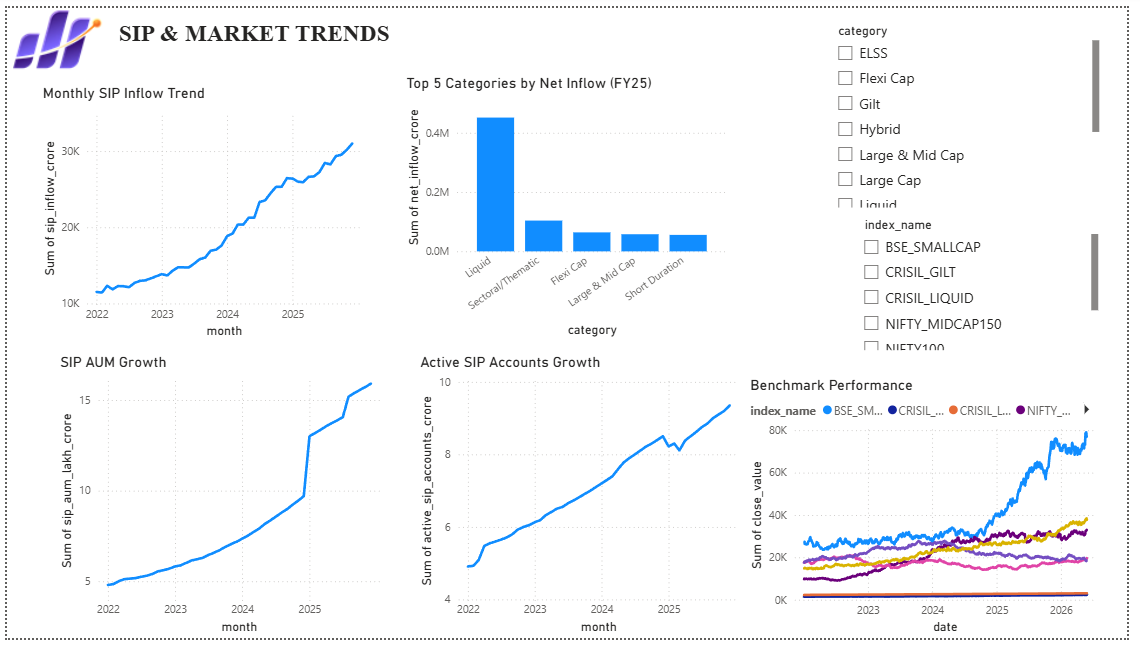

The page's visual inventory and layout, read from the dashboard file:
{"tool":"powerbi","page":{"name":"SIP & Market Trends","canvas":[1280,720],"ordinal":3},"visuals":[{"type":"lineChart","title":"Monthly SIP Inflow Trend","fields":{"Y":["Sum(monthly_sip_inflows_clean.sip_inflow_crore)"],"Category":["monthly_sip_inflows_clean.month"]},"box":[35.1,86.5,377,294.6],"z":0},{"type":"lineChart","title":"SIP AUM Growth","fields":{"Category":["monthly_sip_inflows_clean.month"],"Y":["Sum(monthly_sip_inflows_clean.sip_aum_lakh_crore)"]},"box":[55.4,394.6,378.4,325.7],"z":1000},{"type":"clusteredColumnChart","title":"Top 5 Categories by Net Inflow (FY25)","fields":{"Category":["category_inflows_clean.category"],"Y":["Sum(category_inflows_clean.net_inflow_crore)"]},"box":[451.4,75.7,377,305.4],"z":2000},{"type":"lineChart","title":"Active SIP Accounts Growth","fields":{"Category":["monthly_sip_inflows_clean.month"],"Y":["Sum(monthly_sip_inflows_clean.active_sip_accounts_crore)"]},"box":[467.6,394.6,377,325.7],"z":3000},{"type":"slicer","fields":{"Values":["category_inflows_clean.category"]},"box":[936.5,13.5,316.2,220.3],"z":4000},{"type":"slicer","fields":{"Values":["benchmark_indices_clean.index_name"]},"box":[967.6,233.8,285.1,162.2],"z":5000},{"type":"lineChart","title":"Benchmark Performance","fields":{"Category":["benchmark_indices_clean.date"],"Y":["Sum(benchmark_indices_clean.close_value)"],"Series":["benchmark_indices_clean.index_name"]},"box":[844.6,420.3,408.1,300],"z":6000},{"type":"image","box":[0,0,110.4,75.3],"z":6001},{"type":"textbox","box":[123,8.1,367.6,59.5],"z":6002}]}

Visuals, with their boxes in screenshot pixels (x1, y1, x2, y2), scaled from the page's 1280x720 canvas onto the 1140x647 screenshot:
"Monthly SIP Inflow Trend" lineChart: pyautogui.locateOnScreen(31, 78, 367, 342)
"SIP AUM Growth" lineChart: pyautogui.locateOnScreen(49, 355, 386, 646)
"Top 5 Categories by Net Inflow (FY25)" clusteredColumnChart: pyautogui.locateOnScreen(402, 68, 738, 342)
"Active SIP Accounts Growth" lineChart: pyautogui.locateOnScreen(416, 355, 752, 646)
slicer - category_inflows_clean.category: pyautogui.locateOnScreen(834, 12, 1116, 210)
slicer - benchmark_indices_clean.index_name: pyautogui.locateOnScreen(862, 210, 1116, 356)
"Benchmark Performance" lineChart: pyautogui.locateOnScreen(752, 378, 1116, 646)
image: pyautogui.locateOnScreen(0, 0, 98, 68)
textbox: pyautogui.locateOnScreen(110, 7, 437, 61)
